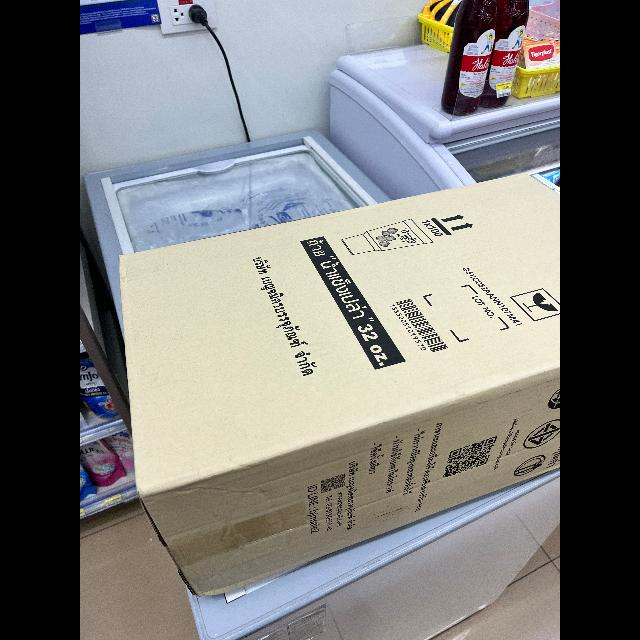cardboard_box: (115, 167, 560, 601)
